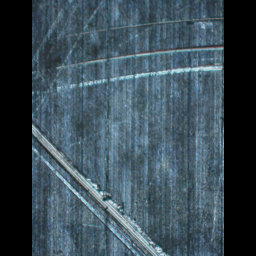d: (31, 113, 170, 256), (40, 11, 223, 101)
